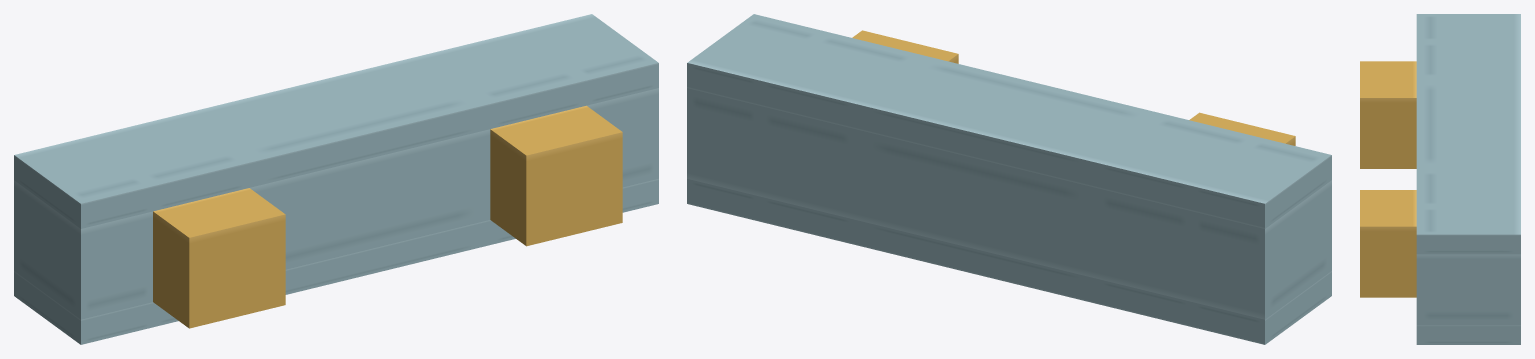
File: sc_mount_battering_ram.obj
3 renders of one model, left to right at view 1: azimuth 30°, elevation 25°; view 2: azimuth 150°, elevation 25°; view 3: azimuth 270°, elevation 25°, orthographic. The views are drawn at different scales.
Size of the model in its own units: 12 by 2.8 by 3.7.
Materials: 1 (1 with a texture image).
